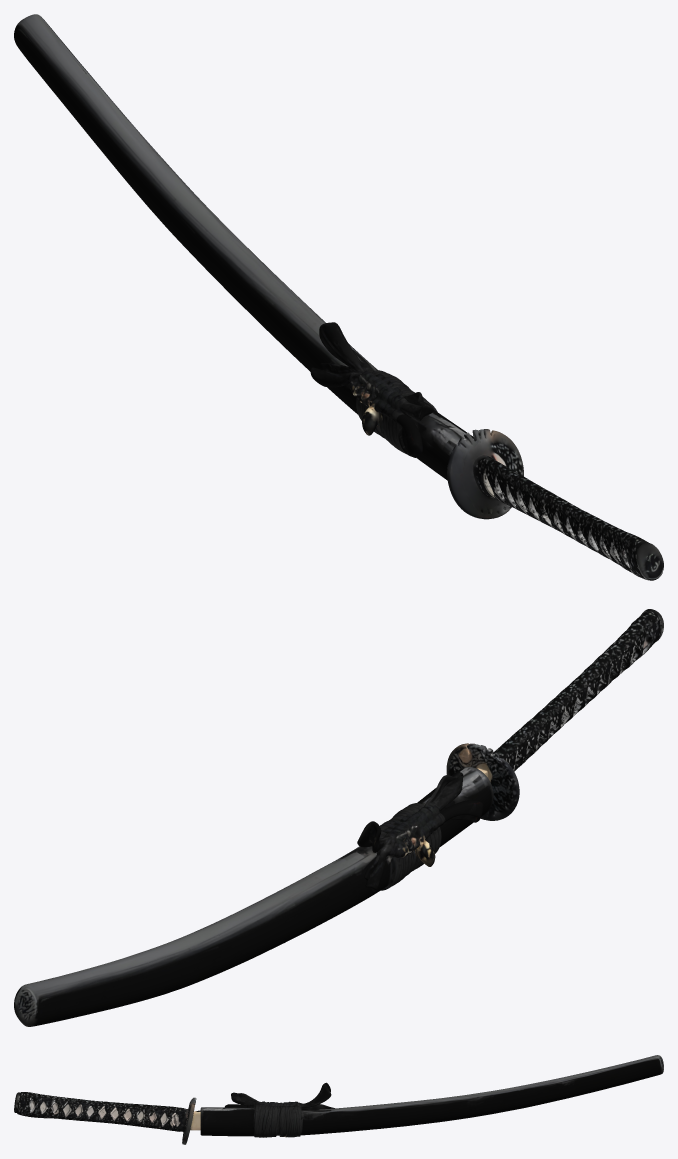
File: kengeki_katana.glb
The picture shows the model from 3 angles, top to bottom: view 1: azimuth 30°, elevation 25°; view 2: azimuth 150°, elevation 25°; view 3: azimuth 270°, elevation 25°; orthographic projection. The views are drawn at different scales.
Visible parts, largest first — view 1: Katana_Saya, Katana_Sword; view 2: Katana_Saya, Katana_Sword; view 3: Katana_Saya, Katana_Sword.
Part boxes in pixels (x1,y1,x2,y2): Katana_Saya: (14, 14, 473, 480); Katana_Sword: (447, 429, 663, 580); Katana_Saya: (14, 767, 493, 1026); Katana_Sword: (446, 609, 663, 820); Katana_Saya: (200, 1055, 663, 1137); Katana_Sword: (14, 1092, 200, 1144).
Size of the model in its own units: 0.0728 by 0.1582 by 1.07.
Materials: 1 (1 with a texture image).
